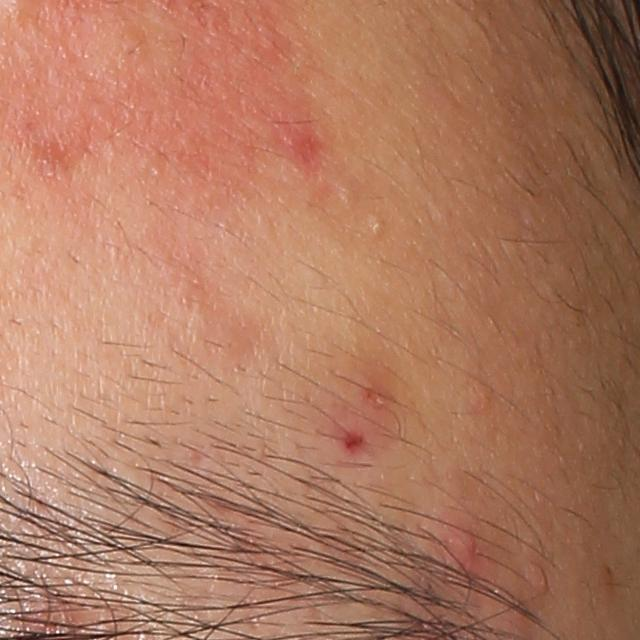comedo: (369, 218, 389, 240)
